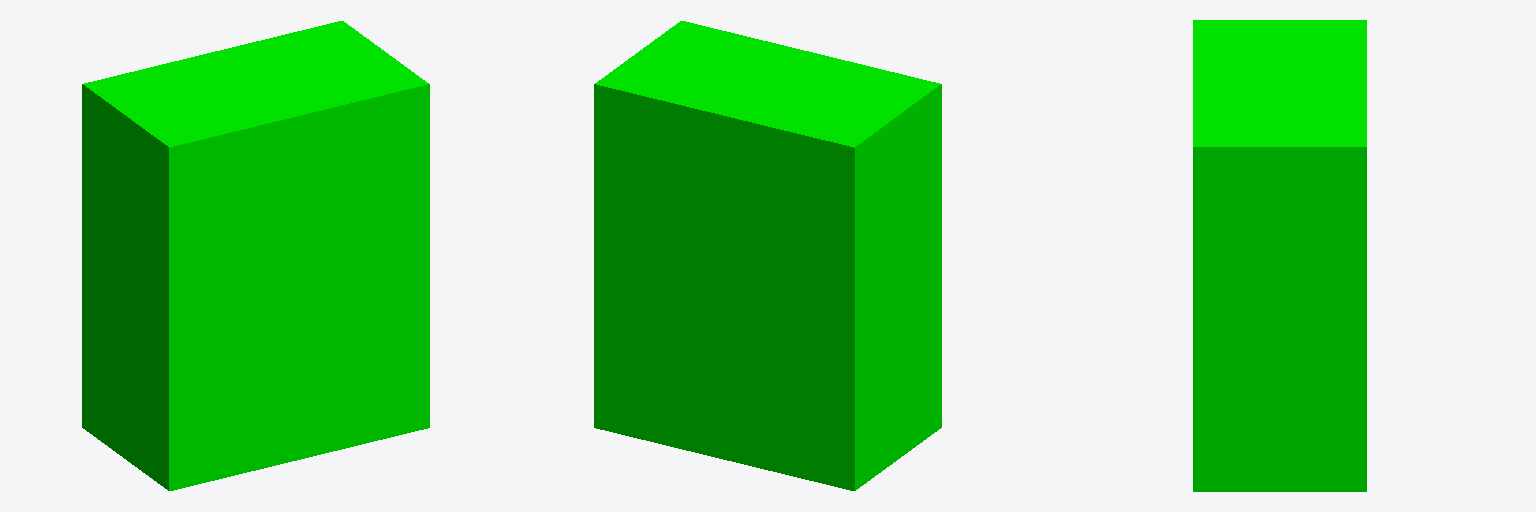
URDF robot description (greenblock.urdf):
<?xml version="0.0" ?>
<robot name="greenblock.urdf">
  <link name="baseLink">
    <contact>
      <friction_anchor/>
      <lateral_friction value="1.0"/>
    </contact>
    <inertial>
      <origin rpy="0 0 0" xyz="0 0 0"/>
       <mass value="1.0"/>
       <inertia ixx="1" ixy="0" ixz="0" iyy="1" iyz="0" izz="1"/>
    </inertial>
    <visual>
      <origin rpy="0 0 0" xyz="0.01 0.0 0.0"/>
      <geometry>
        <box size="0.095 0.055 0.12"/>
      </geometry>
       <material name="green">
        <color rgba="0 1 0 1"/>
      </material>
    </visual>
    <collision>
      <!-- BK: Cannot obtain collision info if I enable the below -->
      <!--origin rpy="0 0 0" xyz="0.01 0.0 0.0"/-->
      <geometry>
        <!-- <mesh filename="greenblock.obj" scale="1 1 1"/> -->
        <!-- Simpler collision model, might need origin reset, also check orientation -->
        <box size="0.095 0.055 0.12"/>
      </geometry>
    </collision>
  </link>
</robot>

--- Facts derived from the render (not from the file) ---
3 views of the same robot in one strip: view 1: azimuth 30°, elevation 25°; view 2: azimuth 150°, elevation 25°; view 3: azimuth 270°, elevation 25° (orthographic).
Robot: greenblock.urdf — 1 links, 0 joints (none); root link baseLink; default pose: all joints at 0.
Visible links, largest first — view 1: baseLink; view 2: baseLink; view 3: baseLink.
Link boxes in pixels (bbox=[...]): baseLink: bbox=[82, 21, 429, 490]; baseLink: bbox=[594, 21, 941, 490]; baseLink: bbox=[1193, 20, 1366, 491].
Size in the robot's own frame: 0.095 by 0.055 by 0.12 metres.
Geometry: primitives only (box / cylinder / sphere), no mesh files.